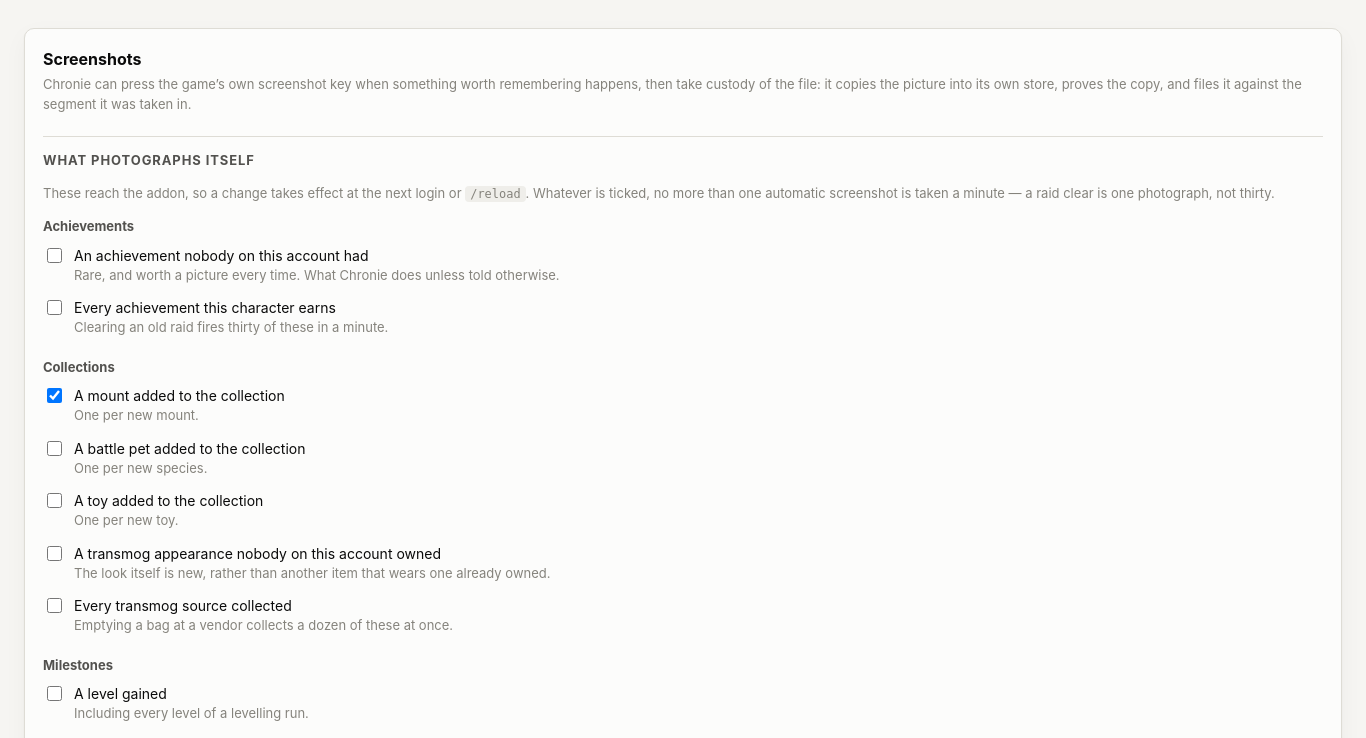
CapturePanel › puts a rule back when the write fails, and says why
This screenshot has width=1366, height=738.
What coordinates should you click on to do the following:
click the checkbox labelled "A toy added to the collection One per new toy."
I would click on:
 (54, 501)
Its box is [47,493,62,508].
(page scrolled)
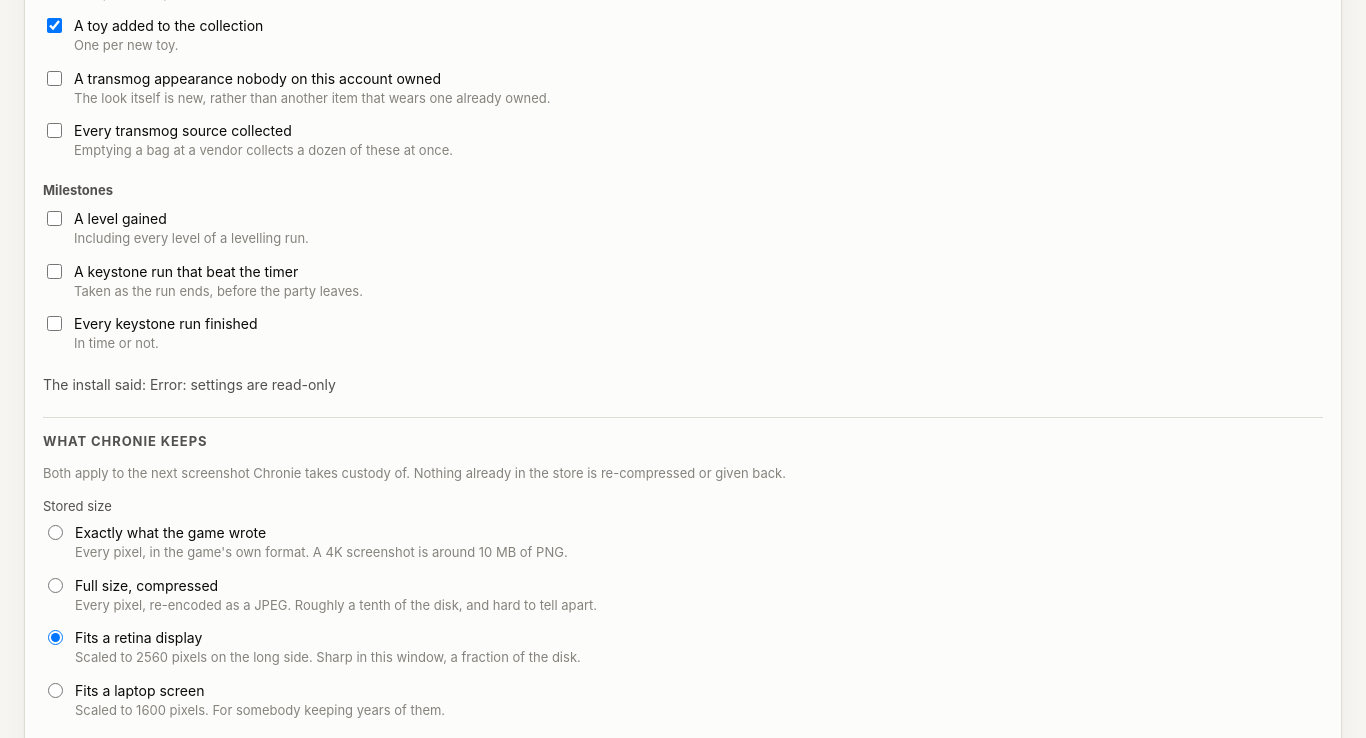
expect the message reads "The install said: Error: settings are read-only": met, box [43,376,336,393]
